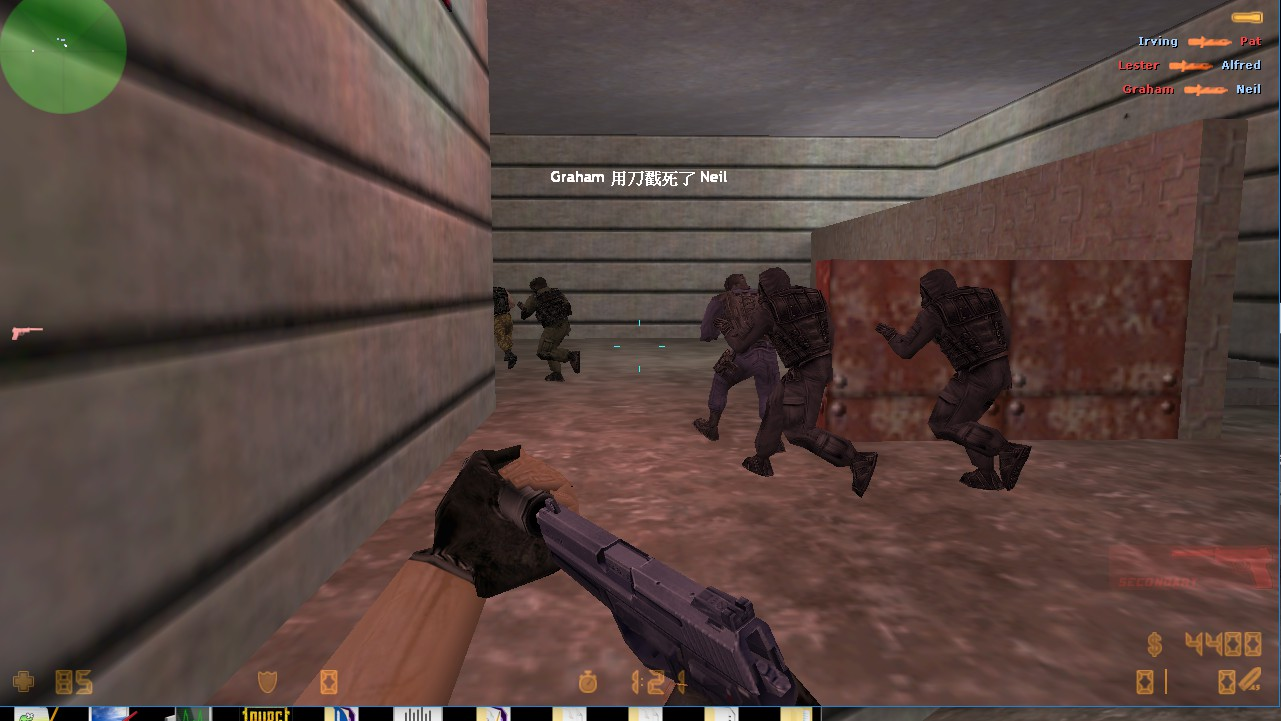person: (889, 263, 1045, 505), (735, 268, 875, 498), (688, 263, 791, 454), (514, 273, 587, 388)
